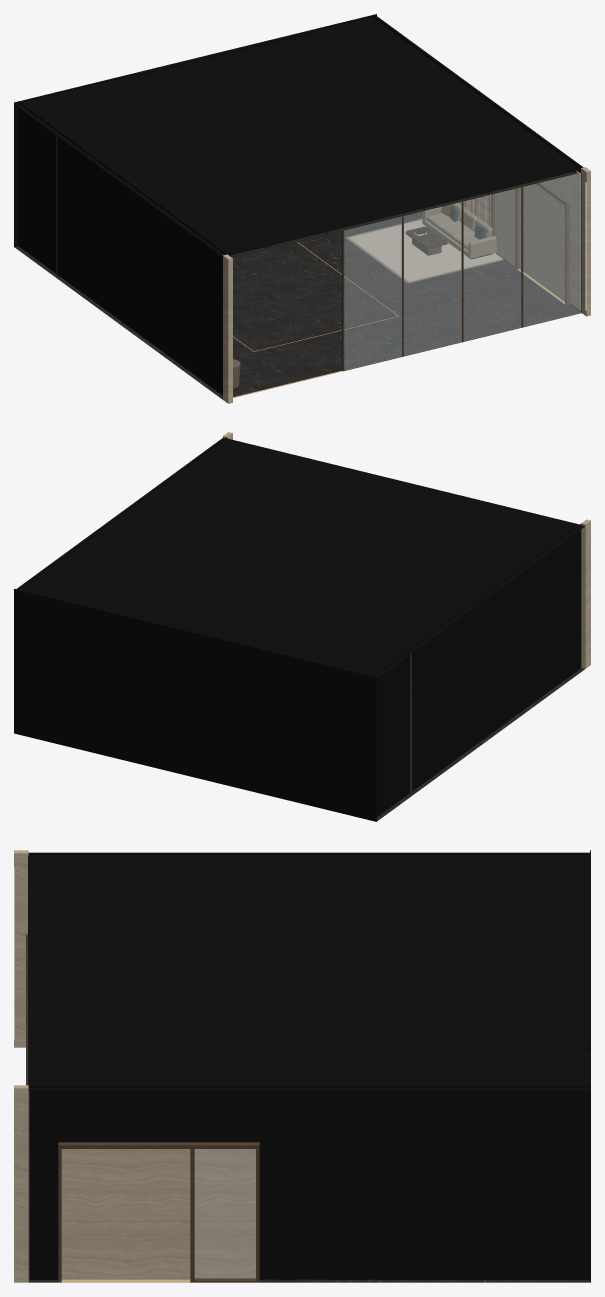
File: room_signature.glb
3 views of the same model, one above another, from view 1: azimuth 30°, elevation 25°; view 2: azimuth 150°, elevation 25°; view 3: azimuth 270°, elevation 25° (orthographic). The views are drawn at different scales.
Visible parts, largest first — view 1: MTG_Reveals, MTG_Glass_Vitrine, MTG_Floor, MTG_PortalFill_R, MTG_Rug, MTG_Walls, MTG_Sofa, MTG_Pier_-1, MTG_Pier_1, MTG_Ceiling, MTG_Table_Top; view 2: MTG_Reveals, MTG_Pier_-1, MTG_Floor; view 3: MTG_Reveals, MTG_PortalFill_R, MTG_Glass_PortalR, MTG_Pier_1, MTG_Pier_-1, MTG_PortalR_Head, MTG_Floor, MTG_PortalR_Mull.
Part boxes in pixels (<box>): MTG_Reveals: <box>14,14,583,395</box>; MTG_Glass_Vitrine: <box>344,173,580,369</box>; MTG_Floor: <box>14,211,579,399</box>; MTG_PortalFill_R: <box>495,184,564,301</box>; MTG_Rug: <box>349,220,502,281</box>; MTG_Walls: <box>458,171,580,310</box>; MTG_Sofa: <box>422,203,496,259</box>; MTG_Pier_-1: <box>223,254,232,403</box>; MTG_Pier_1: <box>581,167,590,316</box>; MTG_Ceiling: <box>230,171,576,257</box>; MTG_Table_Top: <box>405,226,447,248</box>; MTG_Reveals: <box>14,437,584,821</box>; MTG_Pier_-1: <box>581,519,590,668</box>; MTG_Floor: <box>377,668,584,821</box>; MTG_Reveals: <box>28,850,590,1282</box>; MTG_PortalFill_R: <box>61,1149,255,1279</box>; MTG_Glass_PortalR: <box>195,1149,255,1277</box>; MTG_Pier_1: <box>14,1085,28,1282</box>; MTG_Pier_-1: <box>14,850,28,1047</box>; MTG_PortalR_Head: <box>58,1142,259,1148</box>; MTG_Floor: <box>28,1280,589,1282</box>; MTG_PortalR_Mull: <box>190,1149,194,1282</box>.
Size of the model in its own units: 13 by 4.95 by 13.32.
32 materials, 11 textured.
